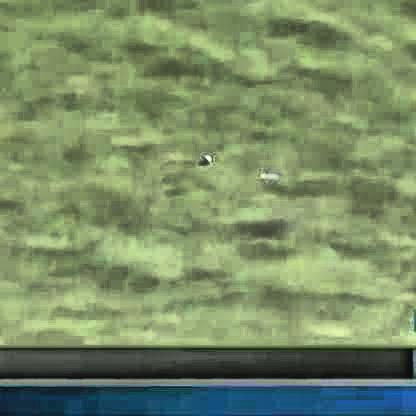golfball: (202, 151, 212, 162)
